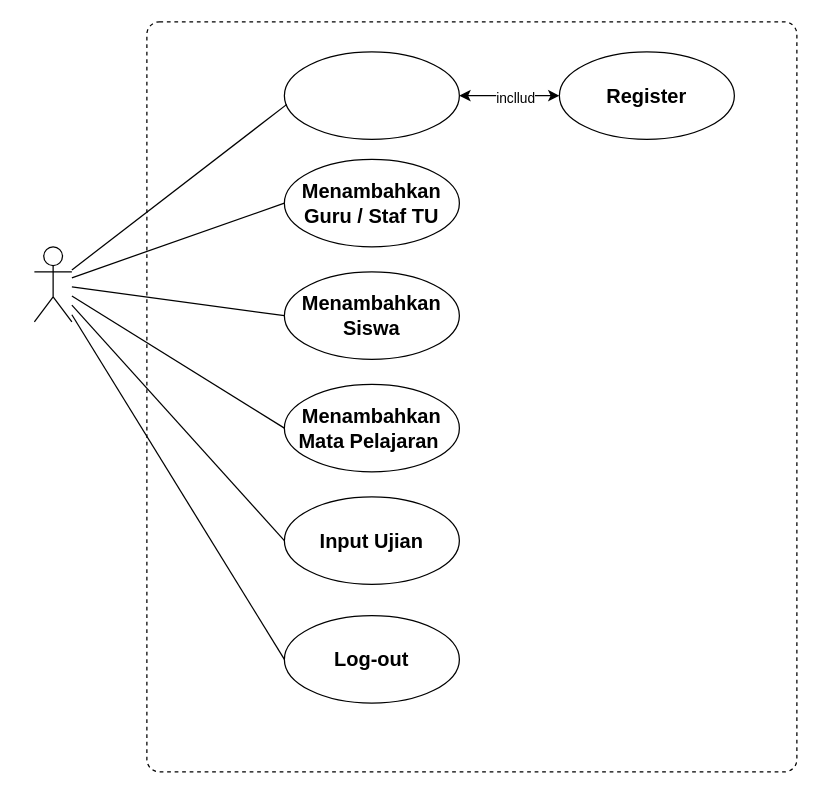
The diagram is 819 pixels wide and 794 high, and some of its shapes have lost their labels. Here are the shapes that lost their labels. From the top down, the centre of each, then its label:
At pixel 371 95: "Login".
At pixel 52 284: "Admin".
